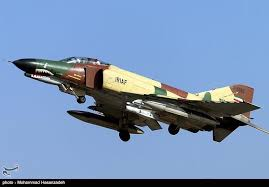fighter: (8, 52, 263, 145)
